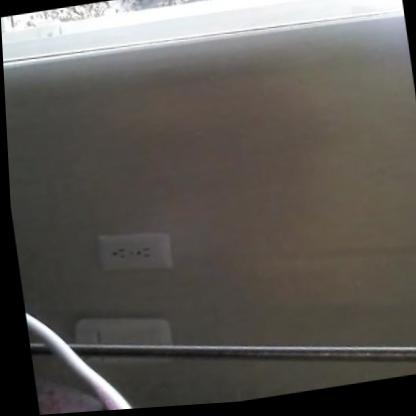OUTLET: (92, 224, 176, 282)
